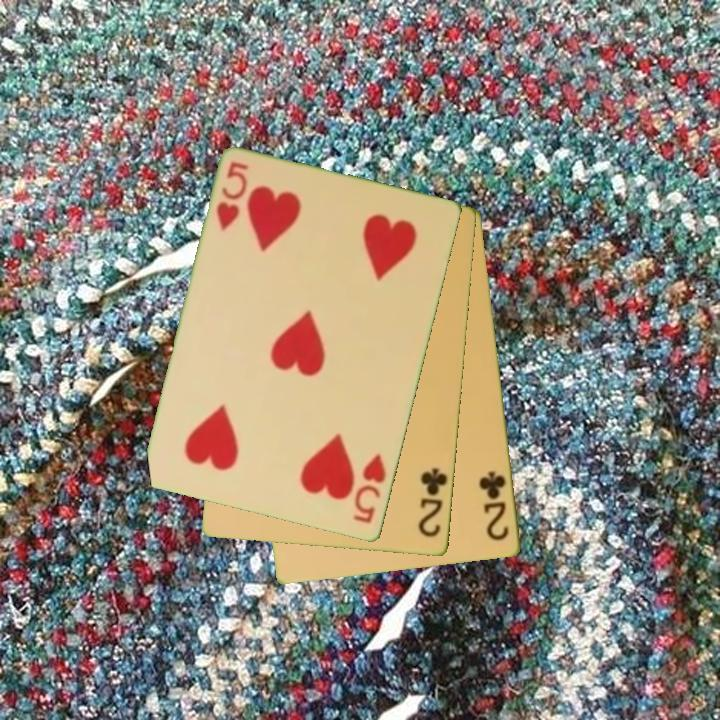2c: (476, 468, 512, 544), (415, 465, 451, 541)
5h: (349, 450, 390, 527), (213, 158, 252, 235)
